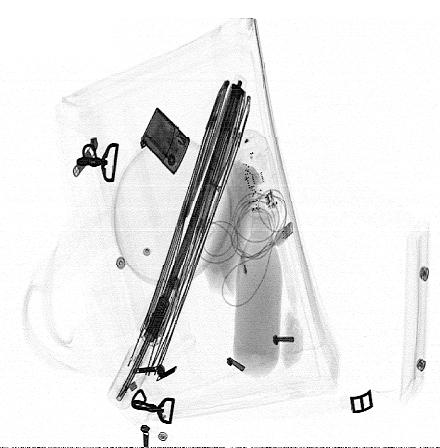Lighter: (140, 108, 190, 176)
